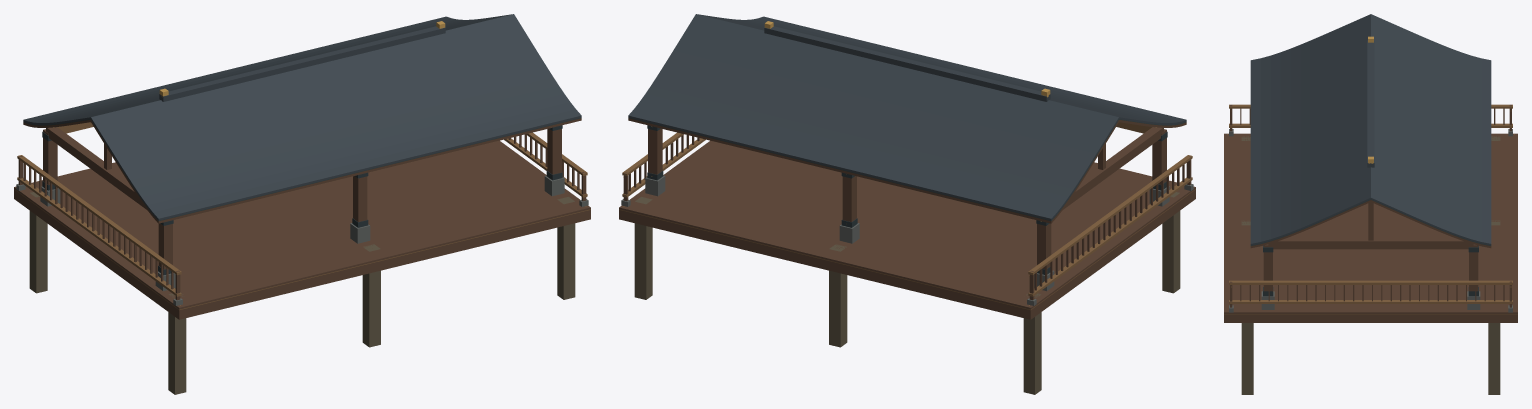
File: visual-far.glb
3 renders of one model, left to right at view 1: azimuth 30°, elevation 25°; view 2: azimuth 150°, elevation 25°; view 3: azimuth 270°, elevation 25°, orthographic. The views are drawn at different scales.
Parts seen in each view (by area): view 1: 连续飞檐与梁椽, 木铺面与承梁平台, 低木棚独立岸桩, 廊边木栏与实际竖梃 (×2), 石础、木柱与金属承箍 (×4); view 2: 连续飞檐与梁椽, 木铺面与承梁平台, 低木棚独立岸桩, 廊边木栏与实际竖梃 (×2), 石础、木柱与金属承箍 (×4); view 3: 连续飞檐与梁椽, 木铺面与承梁平台, 廊边木栏与实际竖梃 (×2), 低木棚独立岸桩, 石础、木柱与金属承箍 (×2).
Part boxes in pixels (<box>): 连续飞檐与梁椽: <box>23,14,581,223</box>; 木铺面与承梁平台: <box>14,140,590,319</box>; 低木棚独立岸桩: <box>29,192,575,394</box>; 廊边木栏与实际竖梃 (×2): <box>16,132,588,305</box>; 石础、木柱与金属承箍 (×4): <box>40,125,564,291</box>; 连续飞檐与梁椽: <box>628,14,1186,223</box>; 木铺面与承梁平台: <box>619,140,1195,319</box>; 低木棚独立岸桩: <box>634,192,1180,394</box>; 廊边木栏与实际竖梃 (×2): <box>621,132,1193,305</box>; 石础、木柱与金属承箍 (×4): <box>645,125,1169,291</box>; 连续飞檐与梁椽: <box>1250,14,1491,249</box>; 木铺面与承梁平台: <box>1224,133,1517,322</box>; 廊边木栏与实际竖梃 (×2): <box>1229,104,1512,312</box>; 低木棚独立岸桩: <box>1241,136,1500,394</box>; 石础、木柱与金属承箍 (×2): <box>1261,244,1480,309</box>.
Size of the model in its own units: 14.8 by 7.9 by 10.
Materials: 9 (9 with a texture image).
